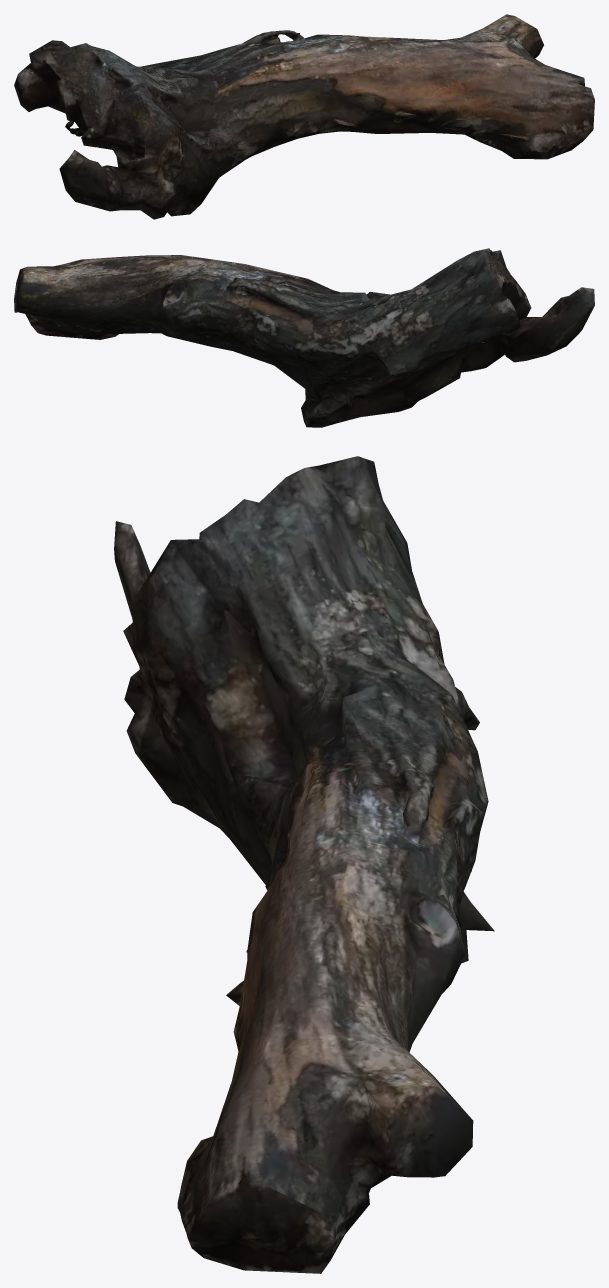
The model's file is mossy-log-lod.glb.
3 views of the same model, one above another, from view 1: azimuth 30°, elevation 25°; view 2: azimuth 150°, elevation 25°; view 3: azimuth 270°, elevation 25° (orthographic). The views are drawn at different scales.
Visible parts, largest first — view 1: ForestLogMedium_1; view 2: ForestLogMedium_1; view 3: ForestLogMedium_1.
Part boxes in pixels (x1=…): ForestLogMedium_1: x1=14, y1=14, x2=594, y2=219; ForestLogMedium_1: x1=14, y1=248, x2=594, y2=427; ForestLogMedium_1: x1=114, y1=456, x2=494, y2=1273.
Size of the model in its own units: 1.32 by 0.4495 by 0.4148.
1 material, 1 textured.
